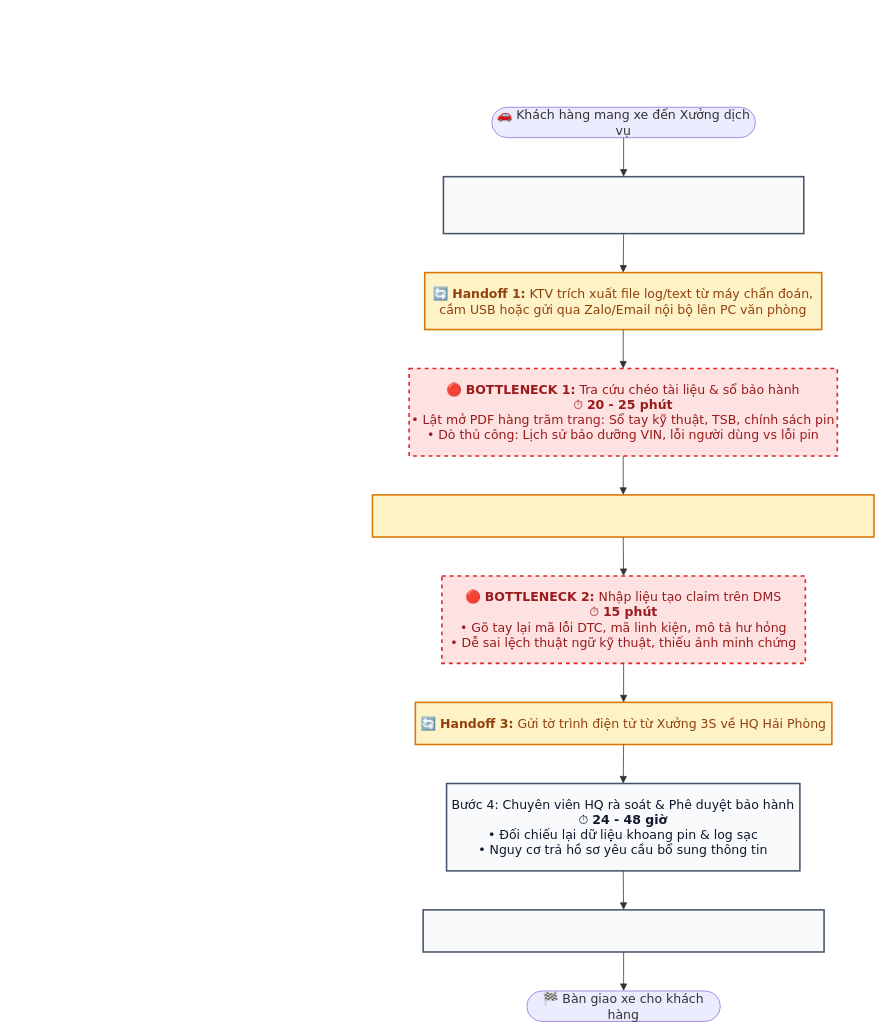
The diagram is 888 pixels wide and 1035 high, and some of its shapes have lost their labels. The shapes that lost their labels are listed below. From the top down, each one's centre as x and y in pixels, then its label:
At point (623, 205): "Bước 1: Tiếp nhận xe & Cắm máy đọc chẩn đoán OBD-II ⏱ 5 - 10 phút".
At point (622, 515): "🔄 Handoff 2: KTV chuyển nháp sự vụ cho Quản đốc xưởng ký nháy duyệt sơ bộ".
At point (623, 930): "Bước 5: Kích hoạt lệnh xuất kho phụ tùng & Thay thế hoàn tất".
